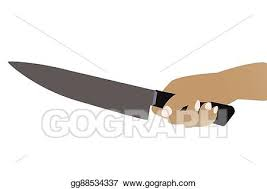knife: (5, 58, 238, 132)
